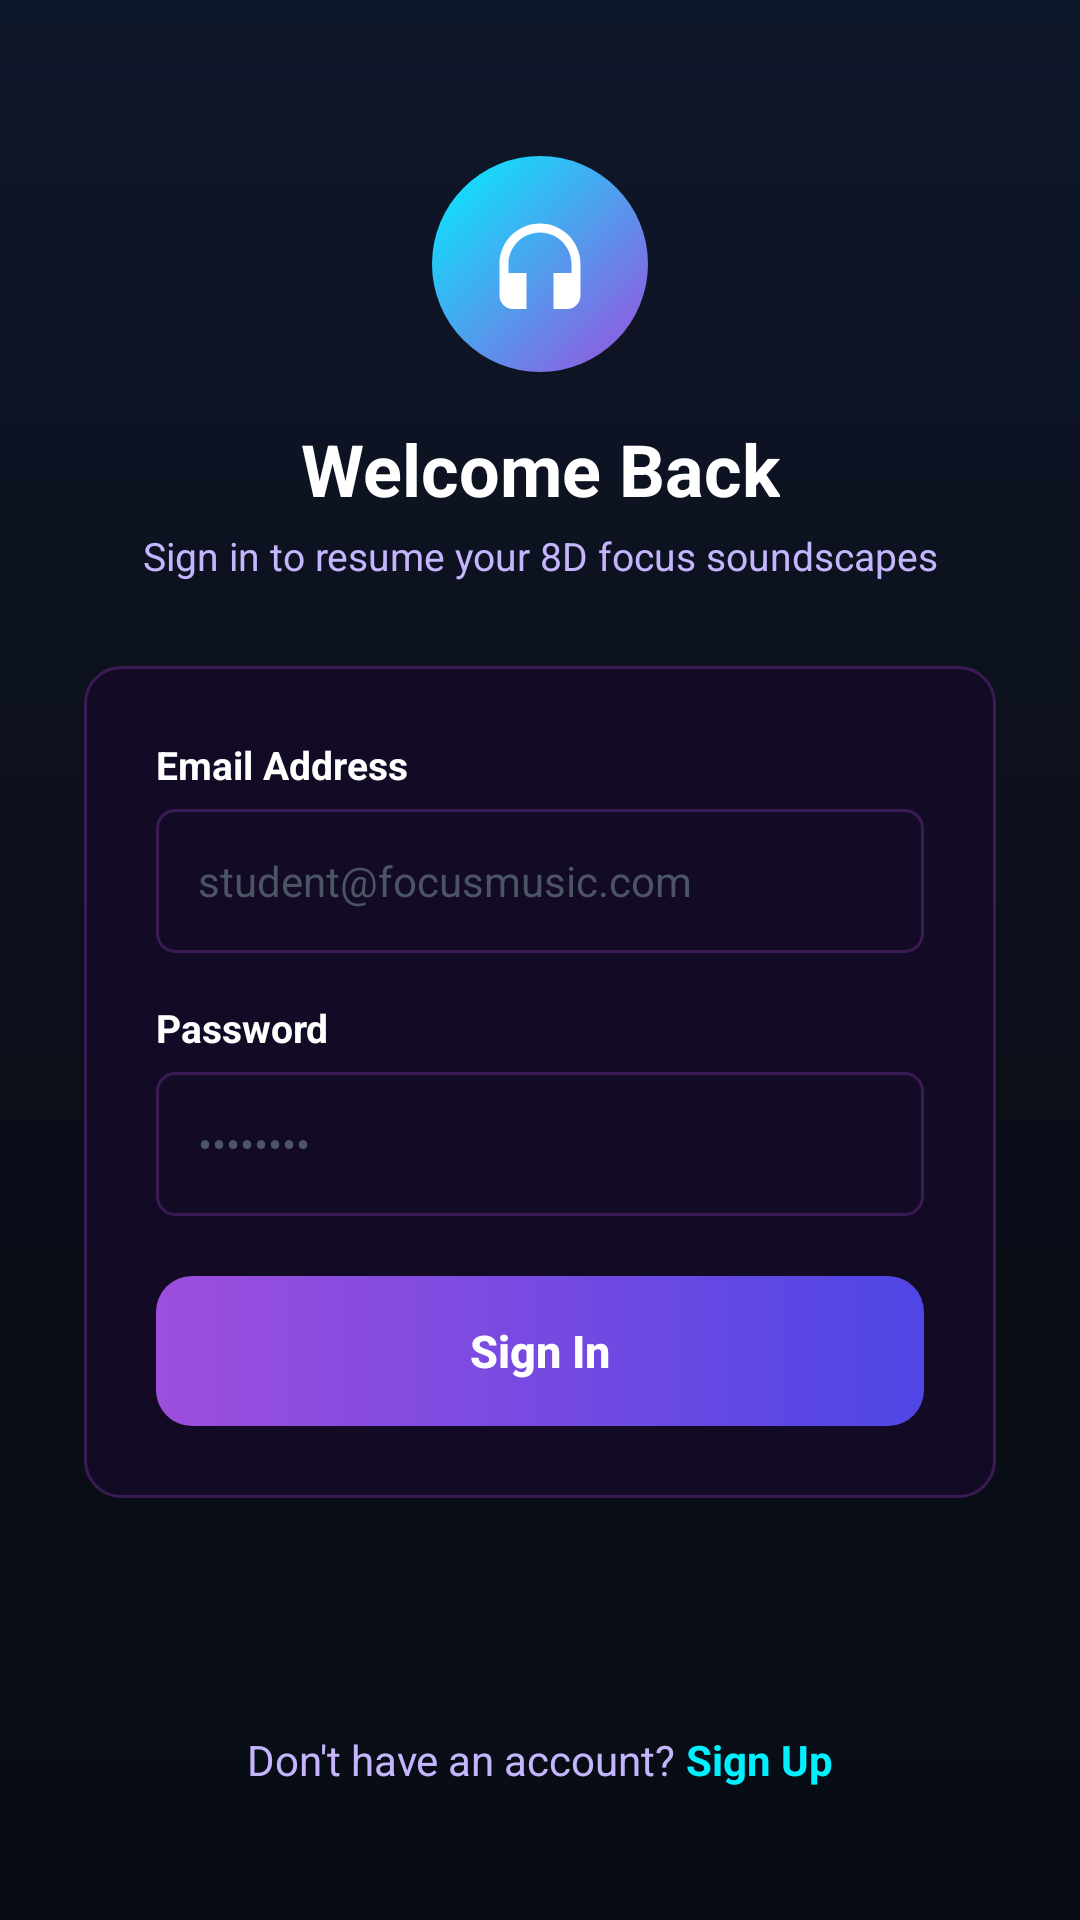

Named icons in this screenshot (1080 × 1920) and their centers, (x=x, y=y):
headphones: (x=540, y=264)
